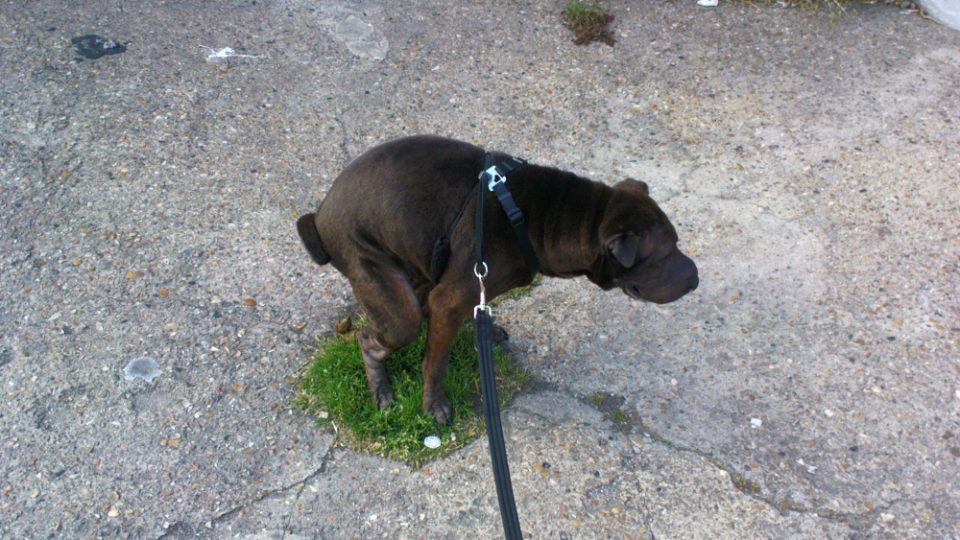dog_pooping: (293, 129, 705, 435)
